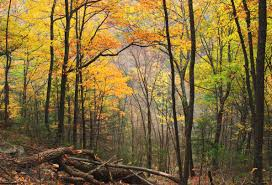forest: (3, 2, 268, 181)
tree: (30, 1, 114, 153), (183, 1, 267, 153)
